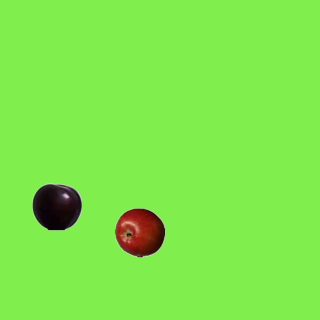Apple Braeburn: (114, 207, 164, 257)
Cherry Wax Black: (31, 181, 81, 231)
